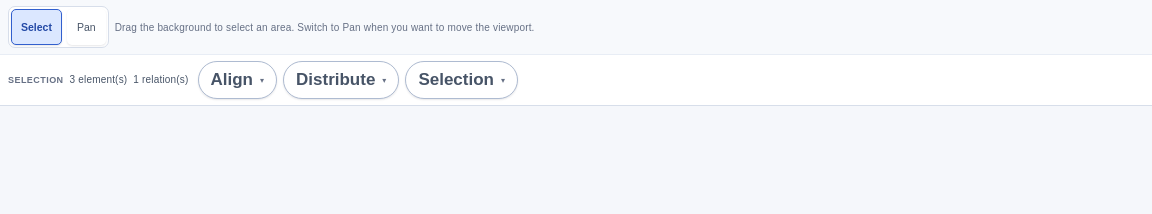
DiagramInteractionToolbar interaction and category menus › keeps multi-selection layout operations inside Align and Distribute categories
Expected: the button "Vertical line" is not shown
Click the button "Align ▾": (237, 80) [198,61,277,99]
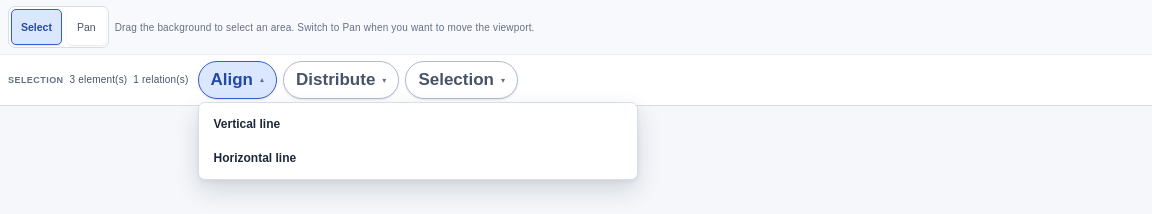
Expected: the button "Vertical line" is shown, [204,108,632,140]
Expected: the button "Horizontal line" is shown, [204,142,632,174]
